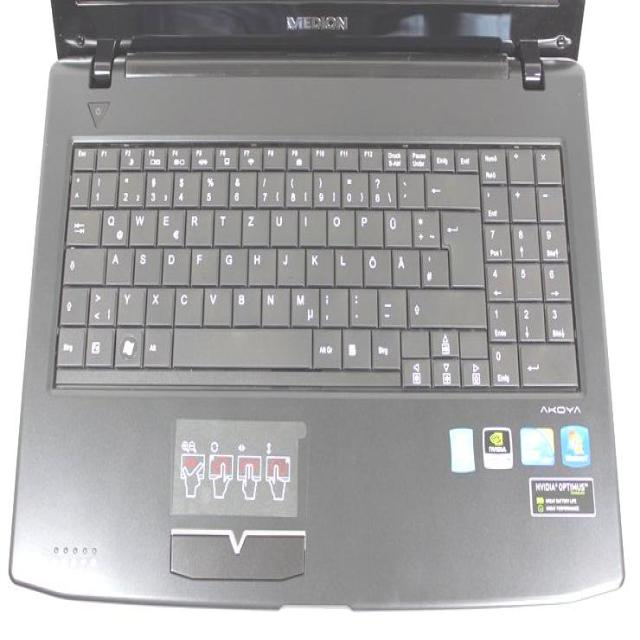0: (338, 167, 365, 205)
1: (89, 169, 114, 204)
2: (116, 167, 142, 204)
3: (143, 166, 169, 203)
4: (171, 166, 197, 203)
5: (198, 167, 224, 204)
6: (227, 167, 253, 204)
7: (254, 166, 280, 203)
8: (283, 167, 308, 204)
9: (311, 167, 338, 204)
a: (103, 242, 130, 281)
accent: (397, 170, 422, 207)
ae: (390, 244, 417, 284)
alt-left: (140, 323, 169, 364)
altgr-right: (311, 324, 339, 365)
b: (229, 283, 258, 323)
c: (171, 283, 199, 323)
caret: (68, 169, 87, 204)
comma: (317, 283, 345, 323)
d: (159, 243, 187, 283)
del: (424, 168, 477, 205)
e: (154, 204, 181, 243)
enter: (438, 206, 482, 284)
f: (189, 243, 215, 283)
g: (217, 244, 244, 283)
h: (246, 243, 273, 283)
hash: (419, 244, 446, 284)
i: (297, 204, 323, 243)
j: (274, 244, 301, 283)
k: (304, 244, 331, 283)
keyboard: (47, 127, 581, 391)
l: (333, 244, 359, 283)
less: (86, 281, 113, 321)
m: (288, 282, 316, 324)
minus: (376, 284, 404, 323)
n: (259, 283, 286, 323)
o: (324, 205, 351, 244)
oe: (361, 244, 388, 283)
p: (353, 205, 380, 244)
plus: (410, 205, 437, 244)
point: (347, 284, 374, 323)
q: (99, 204, 126, 243)
r: (183, 204, 210, 243)
s: (131, 243, 158, 283)
shift-left: (56, 283, 85, 322)
shift-lock: (61, 242, 102, 281)
shift-right: (406, 284, 484, 325)
space: (171, 323, 309, 366)
ss: (370, 168, 396, 205)
strg-left: (54, 321, 82, 363)
strg-right: (368, 324, 398, 367)
t: (211, 204, 238, 243)
tab: (63, 204, 98, 243)
u: (267, 204, 294, 244)
ue: (381, 205, 408, 244)
v: (201, 283, 228, 323)
w: (126, 204, 152, 243)
x: (144, 283, 170, 323)
y: (114, 283, 141, 322)
z: (240, 204, 267, 243)
